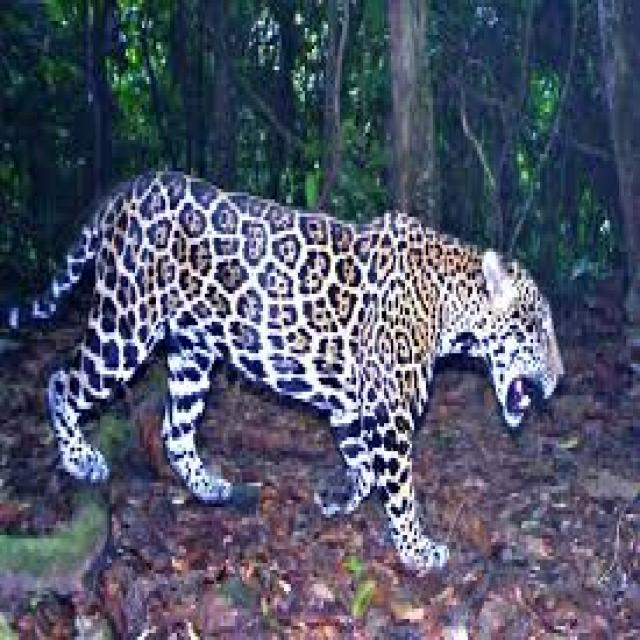Jaguar: (32, 161, 552, 556)
